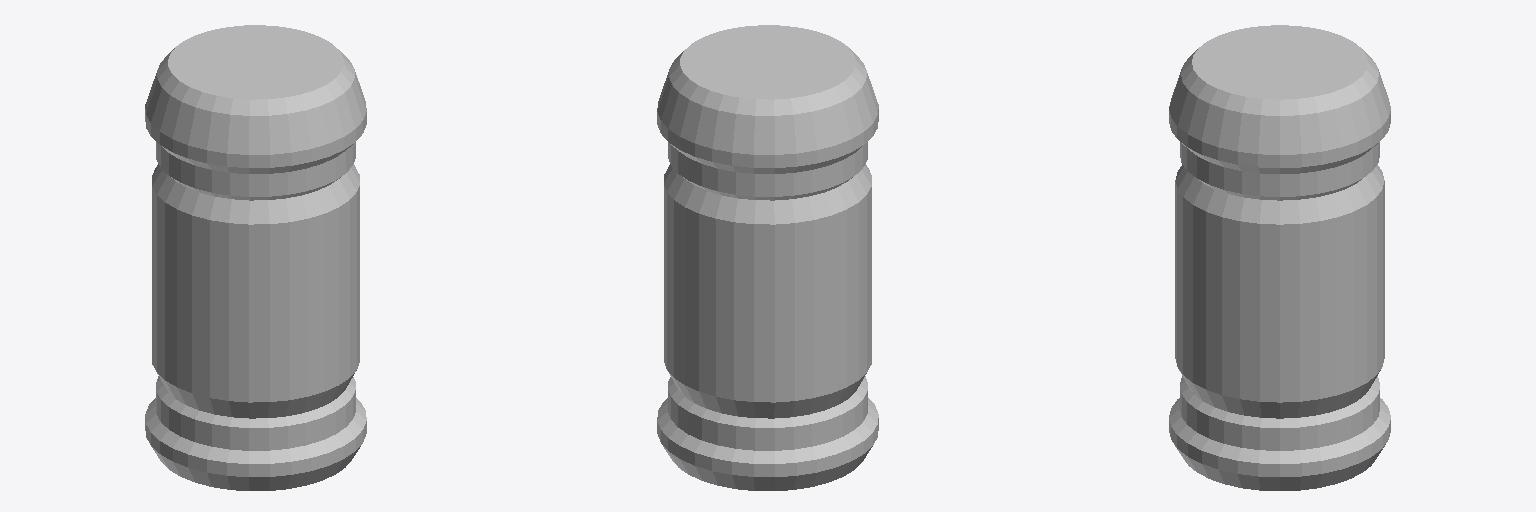
File: truecontainer.obj
3 views of the same model, side by side, from view 1: azimuth 30°, elevation 25°; view 2: azimuth 150°, elevation 25°; view 3: azimuth 270°, elevation 25° (orthographic).
Visible parts, largest first — view 1: Cylinder; view 2: Cylinder; view 3: Cylinder.
Boxes of the visible parts, x1=… form: Cylinder: x1=145, y1=25, x2=366, y2=490; Cylinder: x1=657, y1=25, x2=878, y2=490; Cylinder: x1=1169, y1=25, x2=1390, y2=490.
Size of the model in its own units: 3.32 by 6.39 by 3.32.